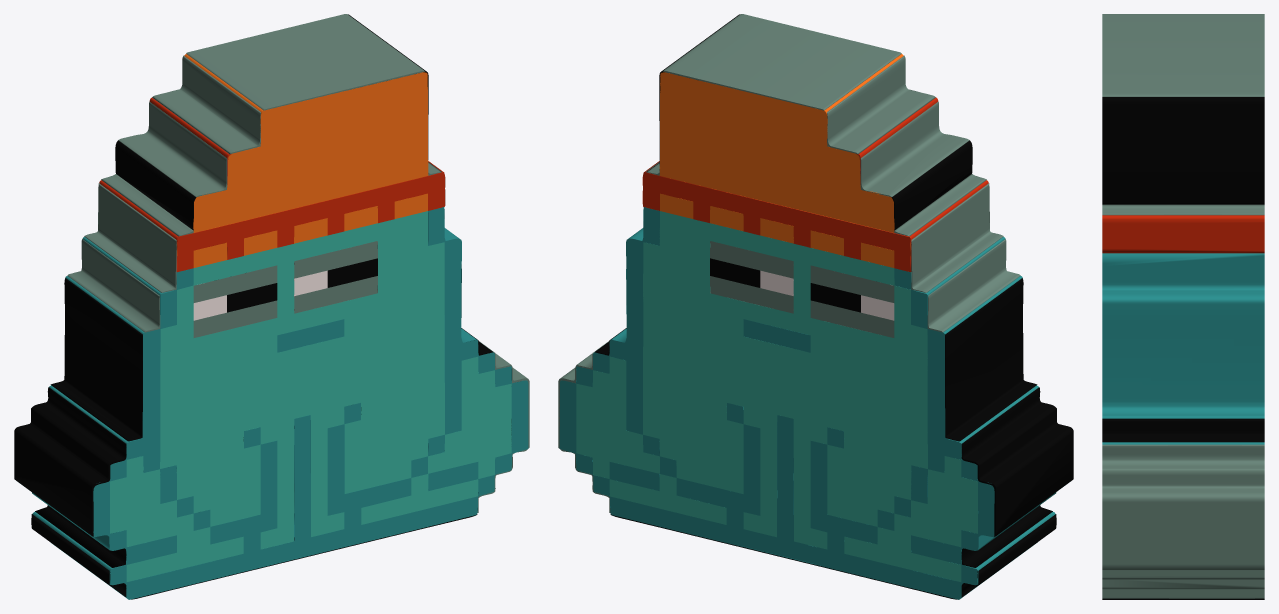
The model's file is Toadz_414.glb.
3 views of the same model, side by side, from view 1: azimuth 30°, elevation 25°; view 2: azimuth 150°, elevation 25°; view 3: azimuth 270°, elevation 25° (orthographic). The views are drawn at different scales.
Visible parts, largest first — view 1: Curve; view 2: Curve; view 3: Curve.
Part boxes in pixels (x1=…): Curve: x1=14, y1=14, x2=529, y2=599; Curve: x1=558, y1=14, x2=1073, y2=599; Curve: x1=1102, y1=14, x2=1264, y2=599.
Bounding box in the file's own units: 3.25 × 3.25 × 1.
